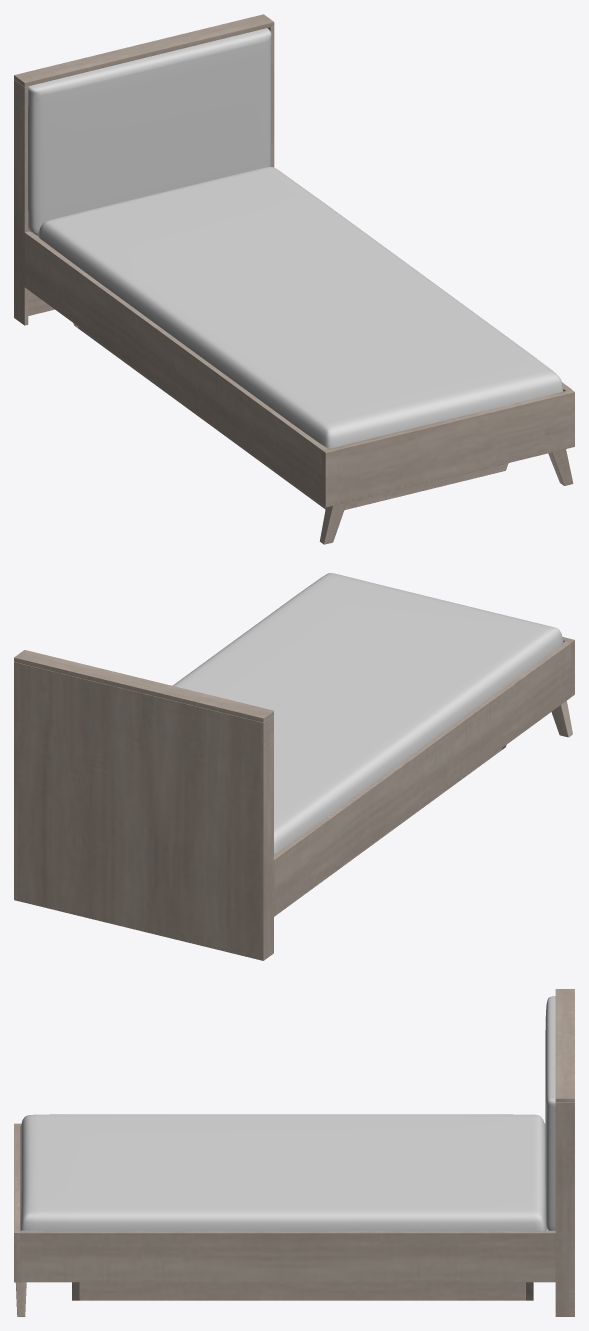
Rendered from B07H8V7MQS.glb.
3 views of the same model, one above another, from view 1: azimuth 30°, elevation 25°; view 2: azimuth 150°, elevation 25°; view 3: azimuth 270°, elevation 25° (orthographic). The views are drawn at different scales.
Visible parts, largest first — view 1: RootNode; view 2: RootNode; view 3: RootNode.
Part boxes in pixels (box(x1,y1,x2,y2)): RootNode: box(14, 14, 574, 544); RootNode: box(14, 573, 574, 960); RootNode: box(14, 989, 574, 1316).
Size of the model in its own units: 0.9901 by 0.9201 by 2.14.
1 material, 1 textured.
